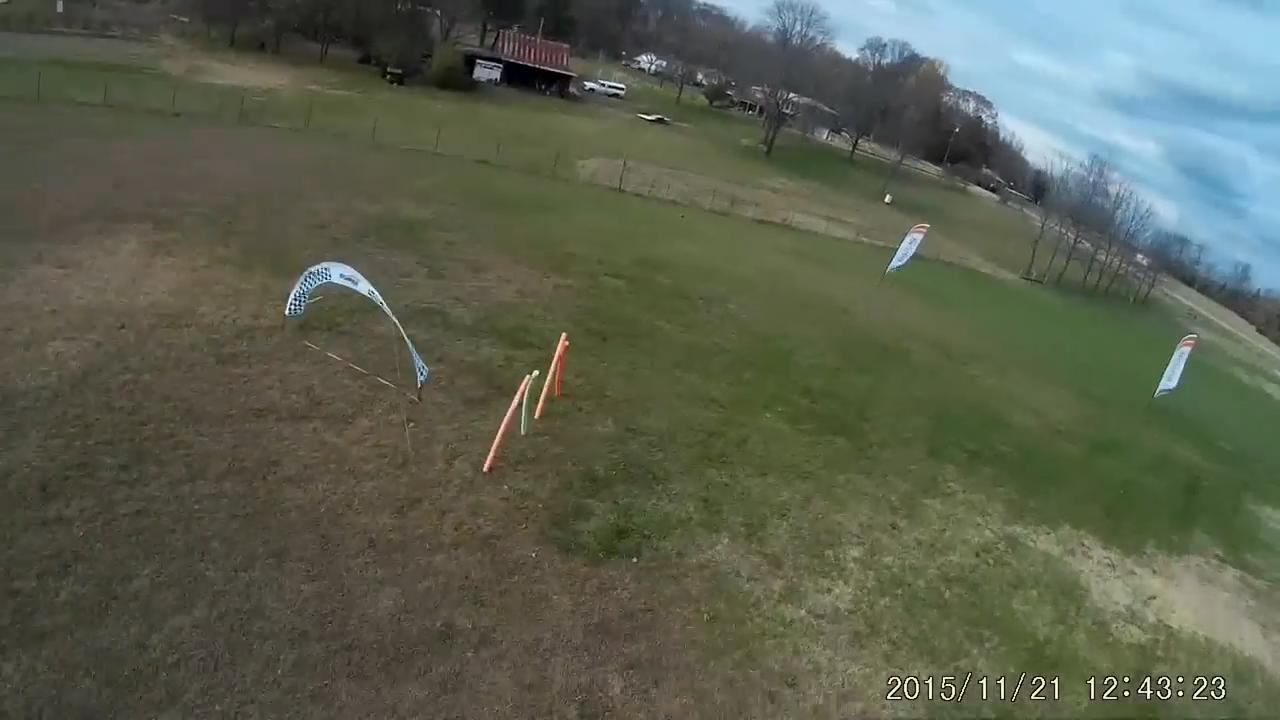gate: (285, 256, 430, 391)
